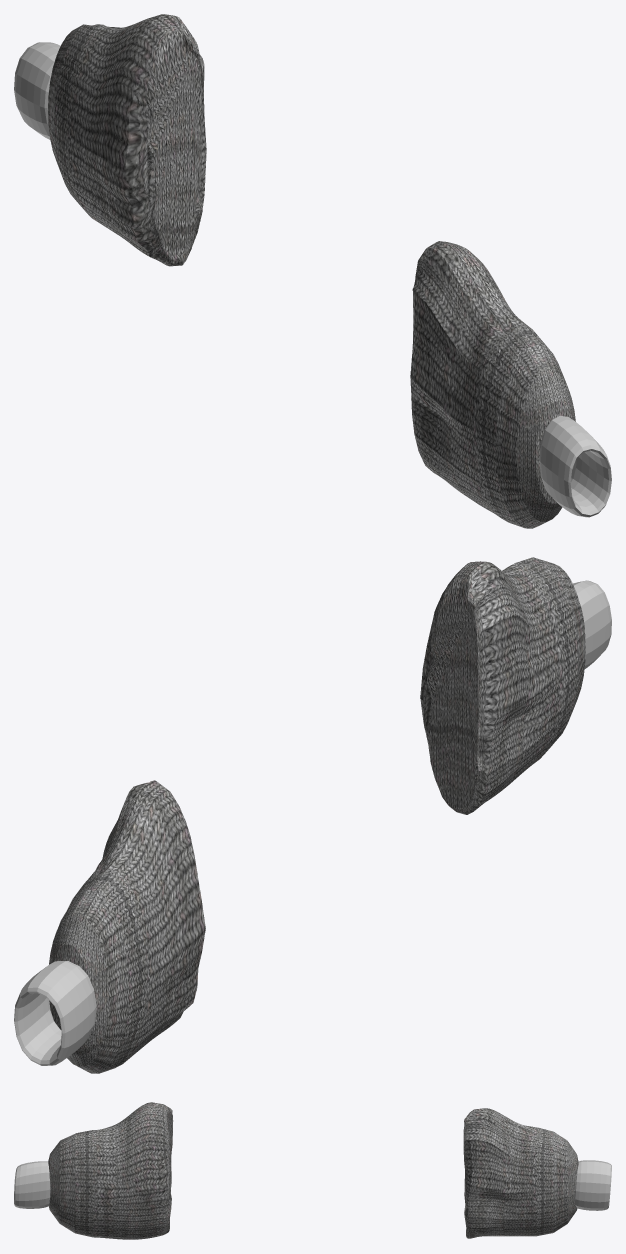
The model's file is puff-sleeve-short.fbx.
3 views of the same model, one above another, from view 1: azimuth 30°, elevation 25°; view 2: azimuth 150°, elevation 25°; view 3: azimuth 270°, elevation 25° (orthographic). The views are drawn at different scales.
Visible parts, largest first — view 1: Cylinder, Cylinder.001, Cube.006, Cube.003; view 2: Cylinder.001, Cylinder, Cube.003, Cube.006; view 3: Cylinder.001, Cylinder, Cube.003, Cube.006.
Boxes of the visible parts, bbox=[...] form: Cylinder: bbox=[48, 14, 206, 266]; Cylinder.001: bbox=[410, 241, 575, 528]; Cube.006: bbox=[539, 415, 611, 517]; Cube.003: bbox=[14, 42, 60, 139]; Cylinder.001: bbox=[420, 557, 585, 814]; Cylinder: bbox=[49, 780, 205, 1073]; Cube.003: bbox=[14, 961, 96, 1065]; Cube.006: bbox=[573, 580, 611, 668]; Cylinder.001: bbox=[48, 1102, 173, 1239]; Cylinder: bbox=[463, 1108, 578, 1238]; Cube.003: bbox=[574, 1160, 611, 1210]; Cube.006: bbox=[14, 1161, 50, 1208].
Size of the model in its own units: 26.28 by 75.38 by 307.
